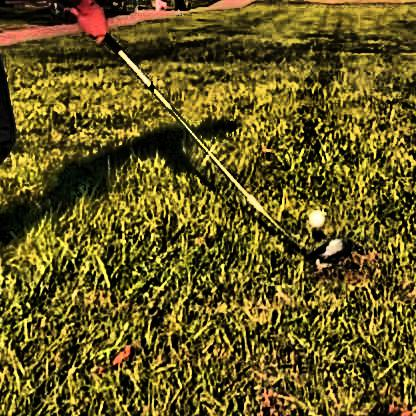golfball: (304, 207, 323, 224)
